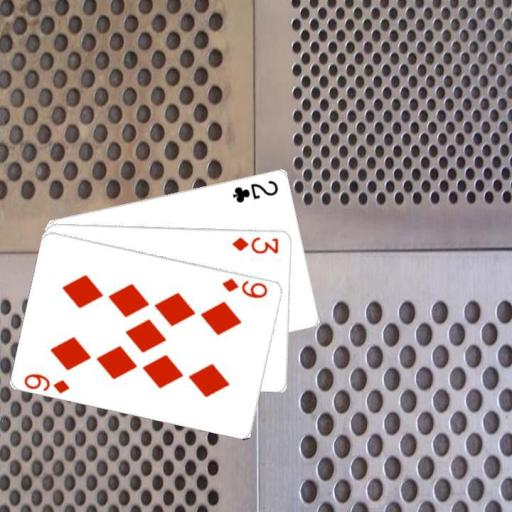2C: (230, 176, 280, 204)
3D: (229, 234, 280, 256)
9D: (219, 275, 270, 300), (21, 370, 72, 395)
